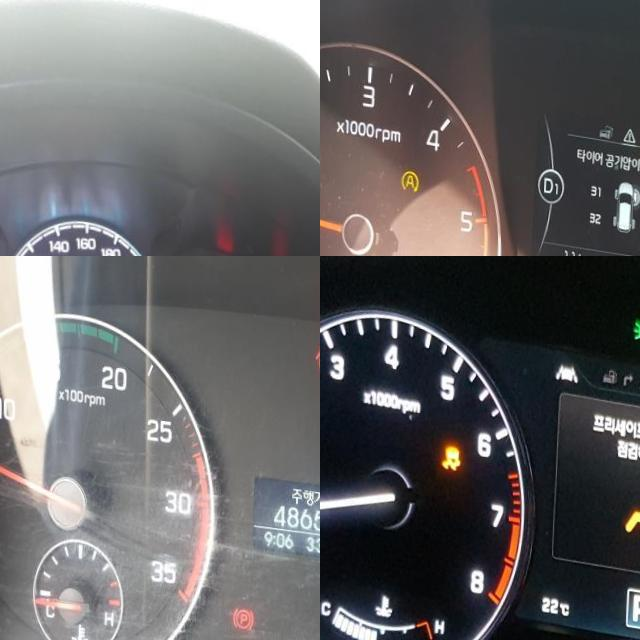SideLamp: (632, 308, 640, 332)
